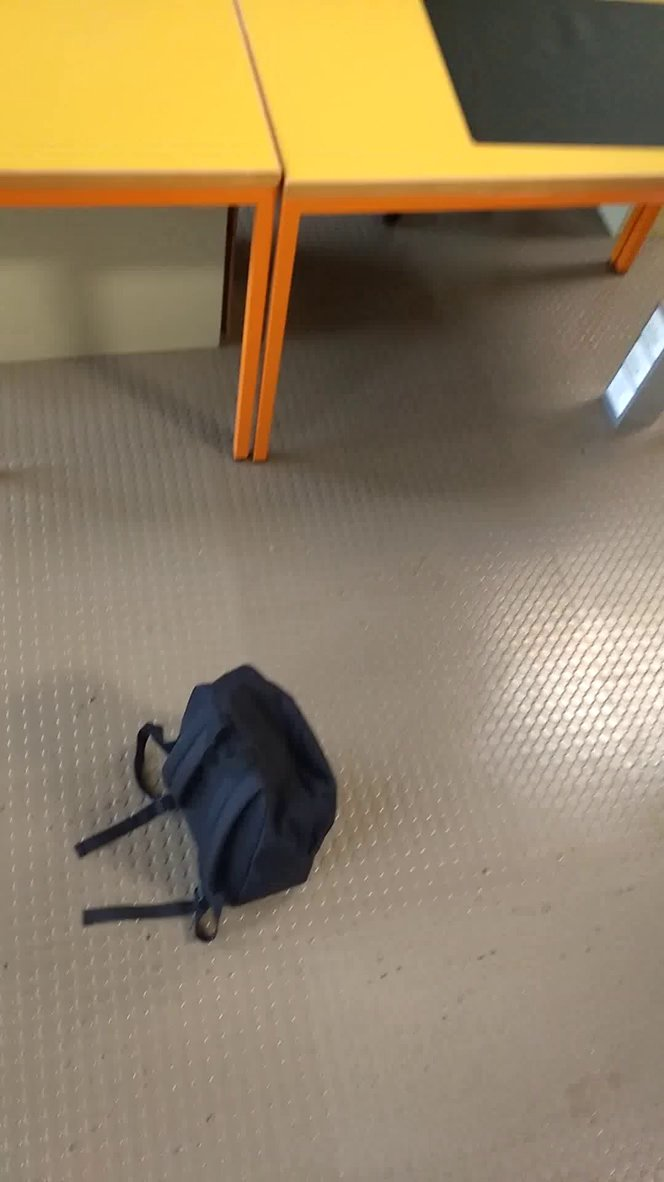bag: (62, 650, 346, 958)
